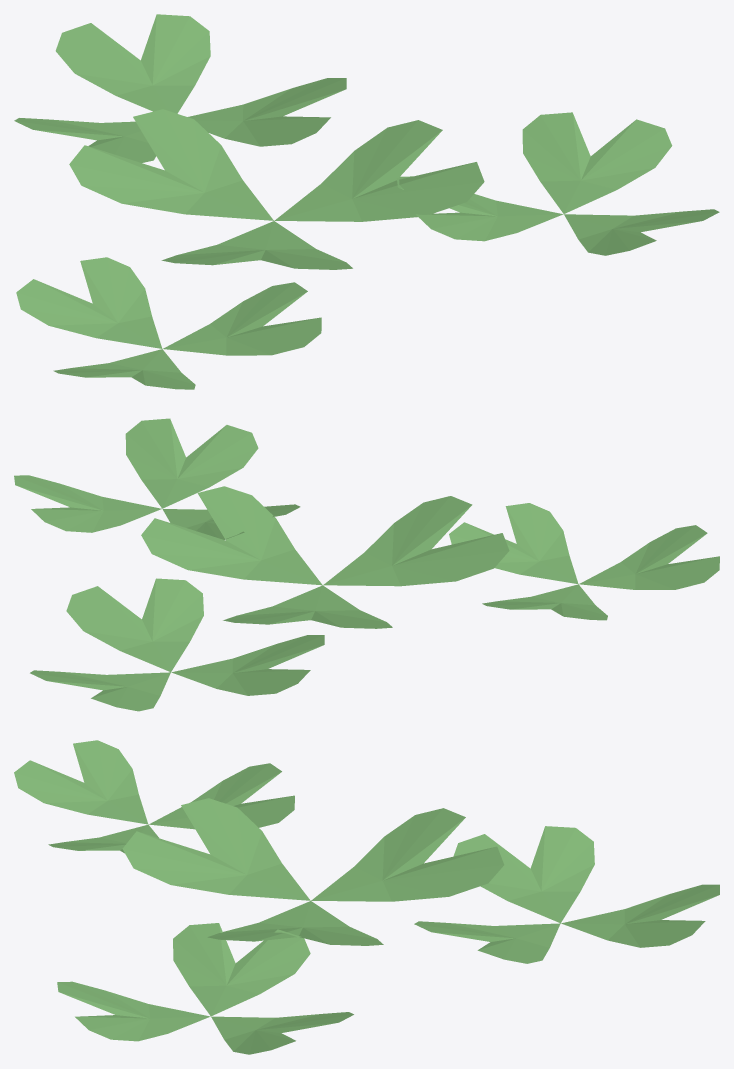
The model's file is clover_tuft.glb.
3 renders of one model, top to bottom at view 1: azimuth 30°, elevation 25°; view 2: azimuth 150°, elevation 25°; view 3: azimuth 270°, elevation 25°, orthographic. The views are drawn at different scales.
Visible parts, largest first — view 1: CloverTuftMesh; view 2: CloverTuftMesh; view 3: CloverTuftMesh.
Part boxes in pixels (<box>): CloverTuftMesh: <box>14,14,719,389</box>; CloverTuftMesh: <box>14,418,719,711</box>; CloverTuftMesh: <box>14,740,719,1054</box>.
Size of the model in its own units: 1 by 0.074 by 0.9487.
